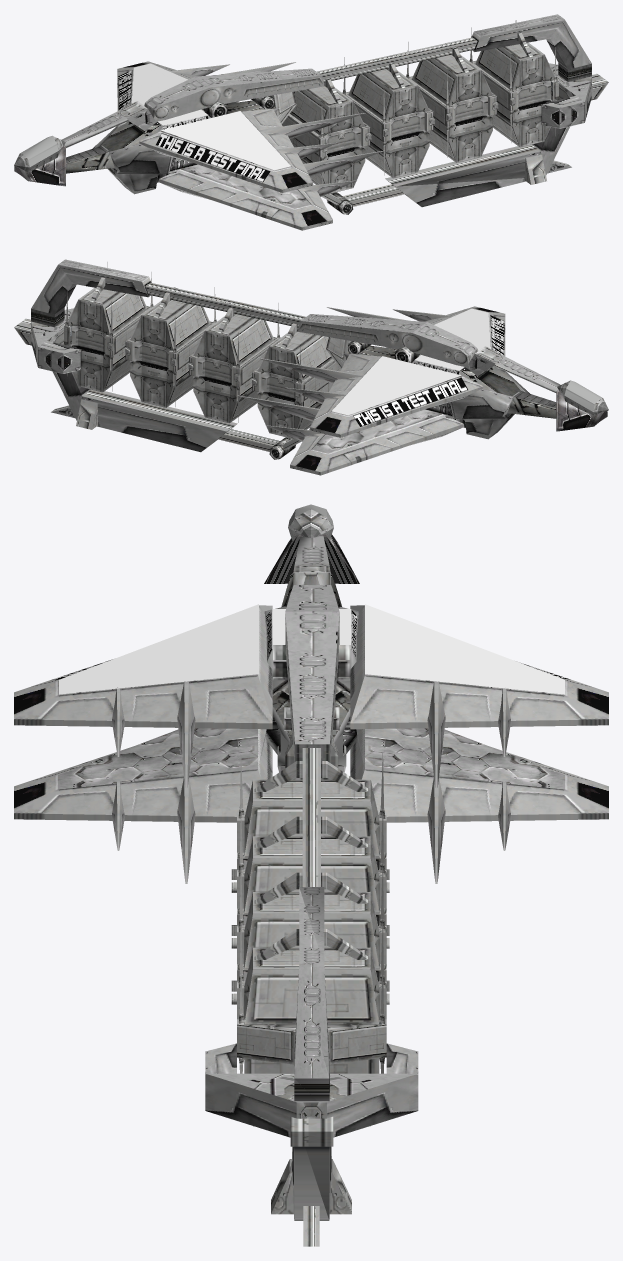
Rendered from OriginalPP.obj.
The picture shows the model from 3 angles, top to bottom: view 1: azimuth 30°, elevation 25°; view 2: azimuth 150°, elevation 25°; view 3: azimuth 270°, elevation 25°; orthographic projection. The views are drawn at different scales.
Parts seen in each view (by area): view 1: BACK0.001, SPP130, SPW130, SPH130, MIDDLE0, MIDDLE010, DECAL010.006, NAMEDECAL0.007, DECAL020.003, COCKPIT0, DECAL030.003; view 2: BACK0.001, SPP130, SPW130, SPH130, MIDDLE0, MIDDLE010, DECAL020.003, NAMEDECAL0.007, DECAL010.006, COCKPIT0; view 3: SPW130, BACK0.001, SPP130, DECAL010.006, DECAL020.003, MIDDLE0, MIDDLE010, SPH130, COCKPIT0, DECAL030.003.
Boxes of the visible parts, x1=… form: BACK0.001: x1=385, y1=14, x2=608, y2=207; SPP130: x1=144, y1=37, x2=477, y2=214; SPW130: x1=117, y1=61, x2=384, y2=230; SPH130: x1=14, y1=100, x2=279, y2=194; MIDDLE0: x1=342, y1=57, x2=433, y2=178; MIDDLE010: x1=406, y1=42, x2=497, y2=162; DECAL010.006: x1=161, y1=111, x2=290, y2=170; NAMEDECAL0.007: x1=118, y1=70, x2=270, y2=182; DECAL020.003: x1=131, y1=63, x2=187, y2=105; COCKPIT0: x1=14, y1=135, x2=65, y2=172; DECAL030.003: x1=158, y1=109, x2=207, y2=125; BACK0.001: x1=14, y1=259, x2=237, y2=452; SPP130: x1=145, y1=282, x2=477, y2=459; SPW130: x1=237, y1=306, x2=505, y2=475; SPH130: x1=343, y1=345, x2=607, y2=439; MIDDLE0: x1=189, y1=303, x2=280, y2=423; MIDDLE010: x1=125, y1=287, x2=216, y2=407; DECAL020.003: x1=332, y1=356, x2=461, y2=415; NAMEDECAL0.007: x1=353, y1=315, x2=504, y2=426; DECAL010.006: x1=434, y1=308, x2=490, y2=350; COCKPIT0: x1=557, y1=380, x2=608, y2=415; SPW130: x1=14, y1=605, x2=608, y2=883; BACK0.001: x1=205, y1=887, x2=418, y2=1246; SPP130: x1=237, y1=585, x2=386, y2=886; DECAL010.006: x1=59, y1=604, x2=258, y2=694; DECAL020.003: x1=365, y1=604, x2=564, y2=694; MIDDLE0: x1=237, y1=805, x2=386, y2=925; MIDDLE010: x1=237, y1=861, x2=386, y2=981; SPH130: x1=264, y1=534, x2=359, y2=772; COCKPIT0: x1=288, y1=504, x2=333, y2=541; DECAL030.003: x1=272, y1=609, x2=351, y2=648.
Bounding box in the file's own units: 158 × 44.49 × 76.85.
Materials: 20 (20 with a texture image).
